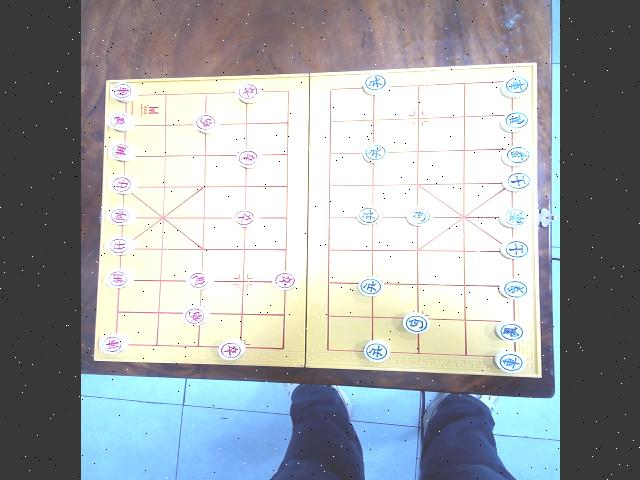piece: (495, 320, 526, 342), (501, 145, 532, 166), (501, 75, 530, 97), (495, 351, 525, 372), (500, 111, 530, 132), (499, 279, 529, 299), (499, 208, 530, 227), (503, 171, 532, 191), (362, 73, 388, 95), (500, 240, 530, 259), (182, 306, 210, 326), (219, 339, 245, 360), (364, 340, 390, 361), (236, 82, 262, 103), (403, 312, 429, 333), (193, 113, 220, 133), (111, 82, 138, 102), (100, 334, 128, 353), (107, 112, 135, 131), (105, 270, 134, 288), (358, 276, 384, 296), (109, 142, 136, 161), (108, 207, 136, 225), (109, 176, 137, 194), (186, 271, 214, 289), (272, 271, 298, 290), (107, 237, 134, 255), (363, 144, 388, 163), (237, 149, 262, 168), (233, 209, 259, 227), (407, 208, 431, 226), (357, 207, 381, 225)
